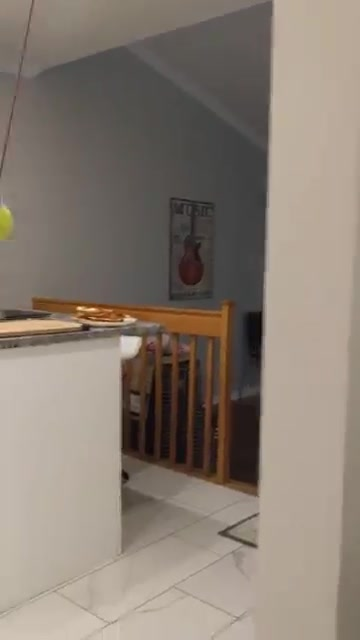tennis_ball: (1, 197, 15, 248)
